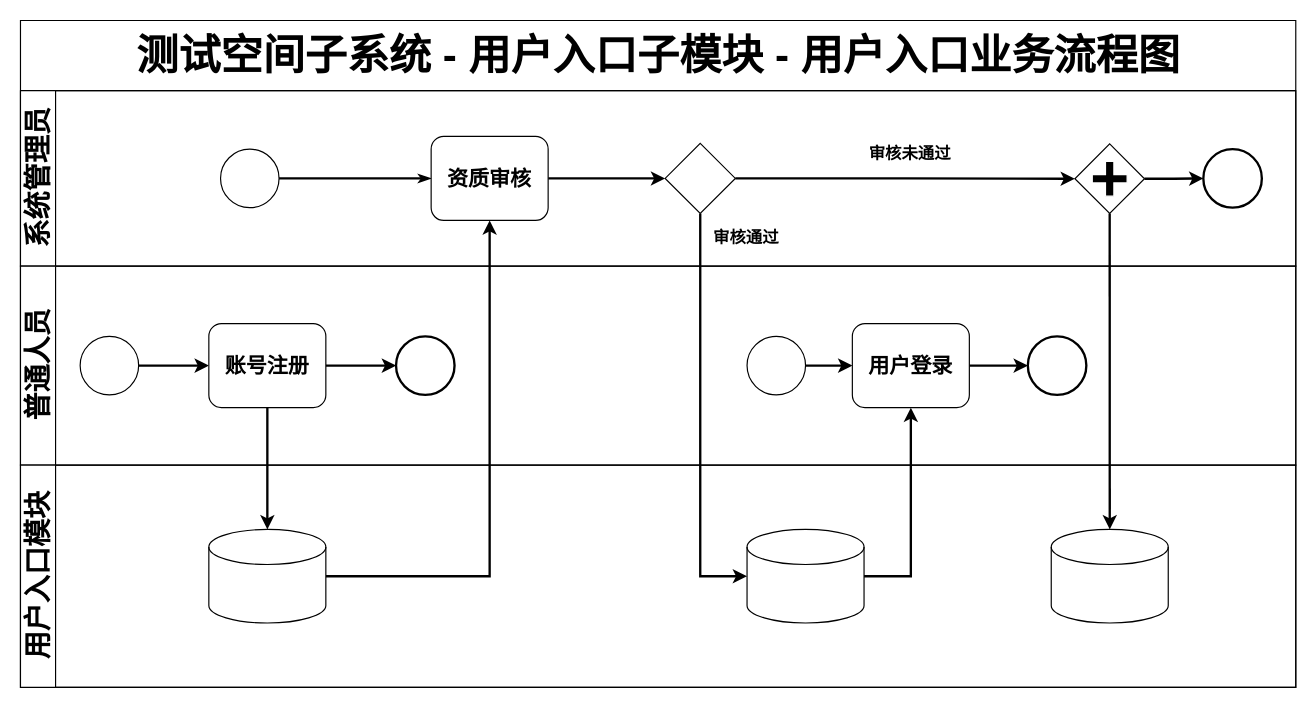
The diagram is 1316 pixels wide and 708 high, and some of its shapes have lost their labels. The shapes that lost their labels are listed below. From the top down, each one's box as (x1, y1, x2, y2) in pixels, then its label:
(208, 528, 326, 623): 待审核库
(746, 528, 864, 623): 用户信息库
(1050, 528, 1168, 623): 审核未通过库
